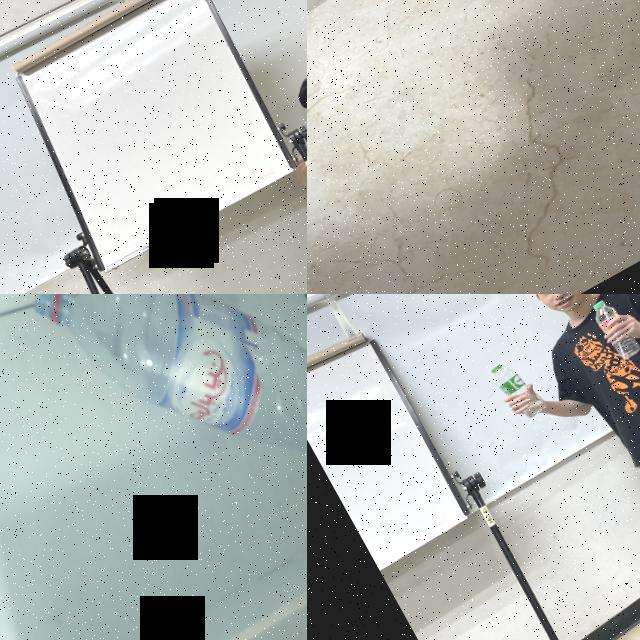bottle: (18, 294, 307, 626), (486, 352, 551, 426), (587, 294, 640, 364)
